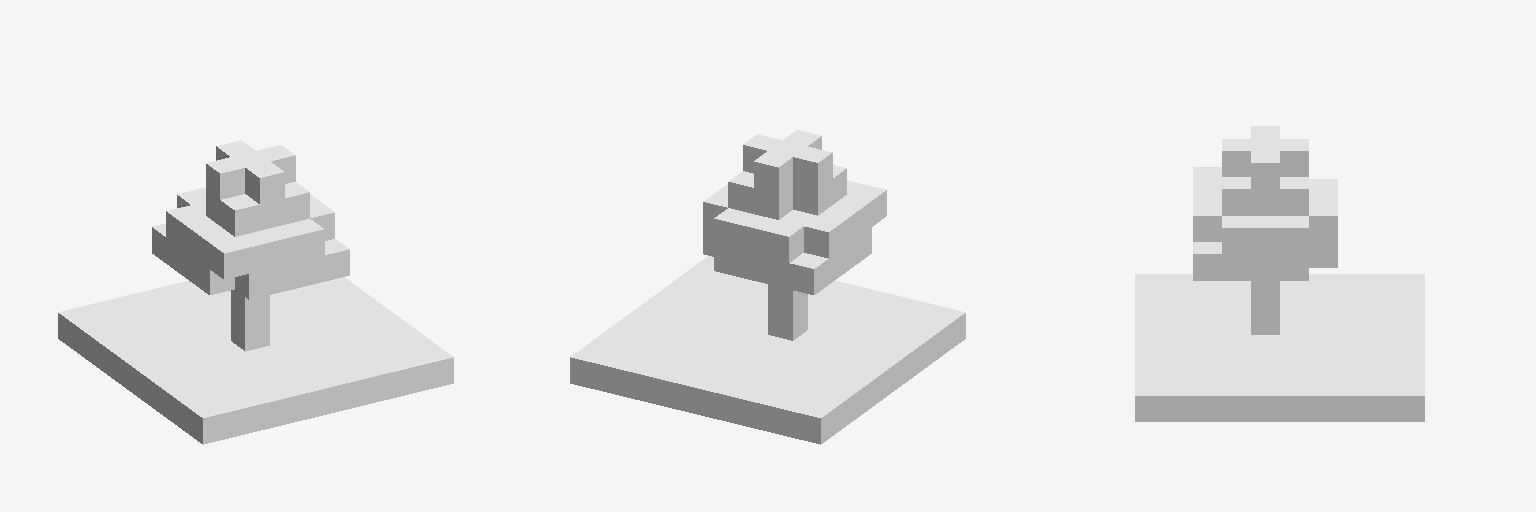
Rendered from oak3.obj.
3 renders of one model, left to right at view 1: azimuth 30°, elevation 25°; view 2: azimuth 150°, elevation 25°; view 3: azimuth 270°, elevation 25°, orthographic.
Visible parts, largest first — view 1: New_World_(2)__31_3_-226_to_40_255_-217; view 2: New_World_(2)__31_3_-226_to_40_255_-217; view 3: New_World_(2)__31_3_-226_to_40_255_-217.
Part boxes in pixels (left/top/right/bottom): New_World_(2)__31_3_-226_to_40_255_-217: left=58, top=140, right=453, bottom=444; New_World_(2)__31_3_-226_to_40_255_-217: left=570, top=130, right=965, bottom=444; New_World_(2)__31_3_-226_to_40_255_-217: left=1135, top=126, right=1424, bottom=421.
Bounding box in the file's own units: 10 × 8 × 10.